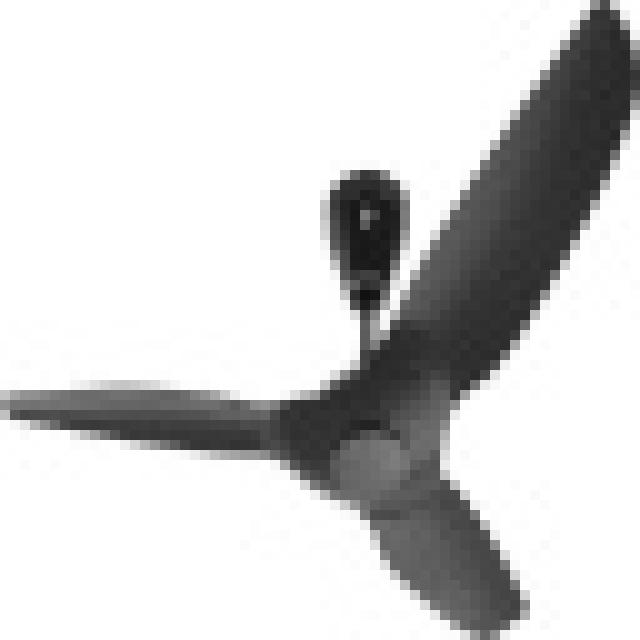Bulb: (31, 93, 619, 614)
